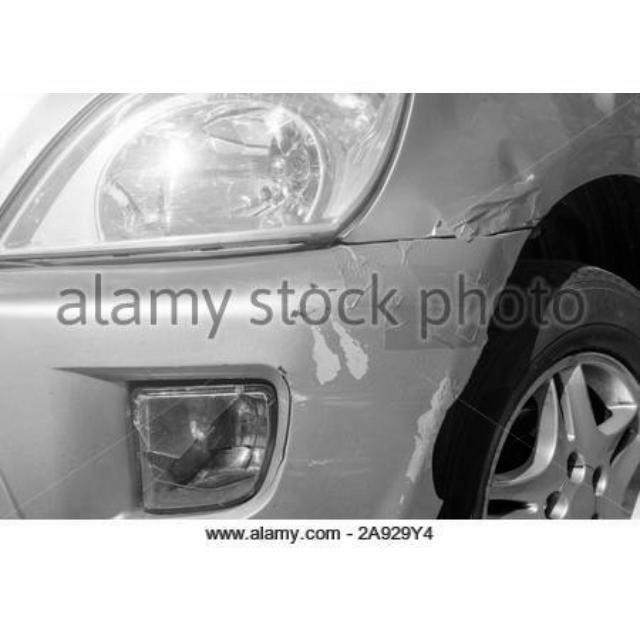fender-dent: (368, 93, 638, 314)
front-bumper-dent: (1, 237, 602, 522)
